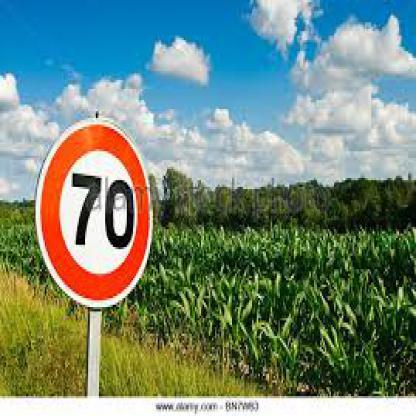Speed Limit 70: (41, 122, 152, 304)
